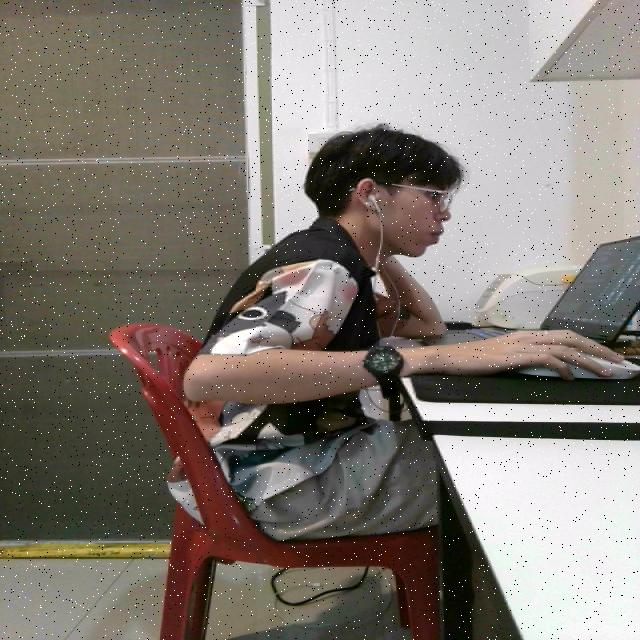Bad: (158, 117, 558, 561)
